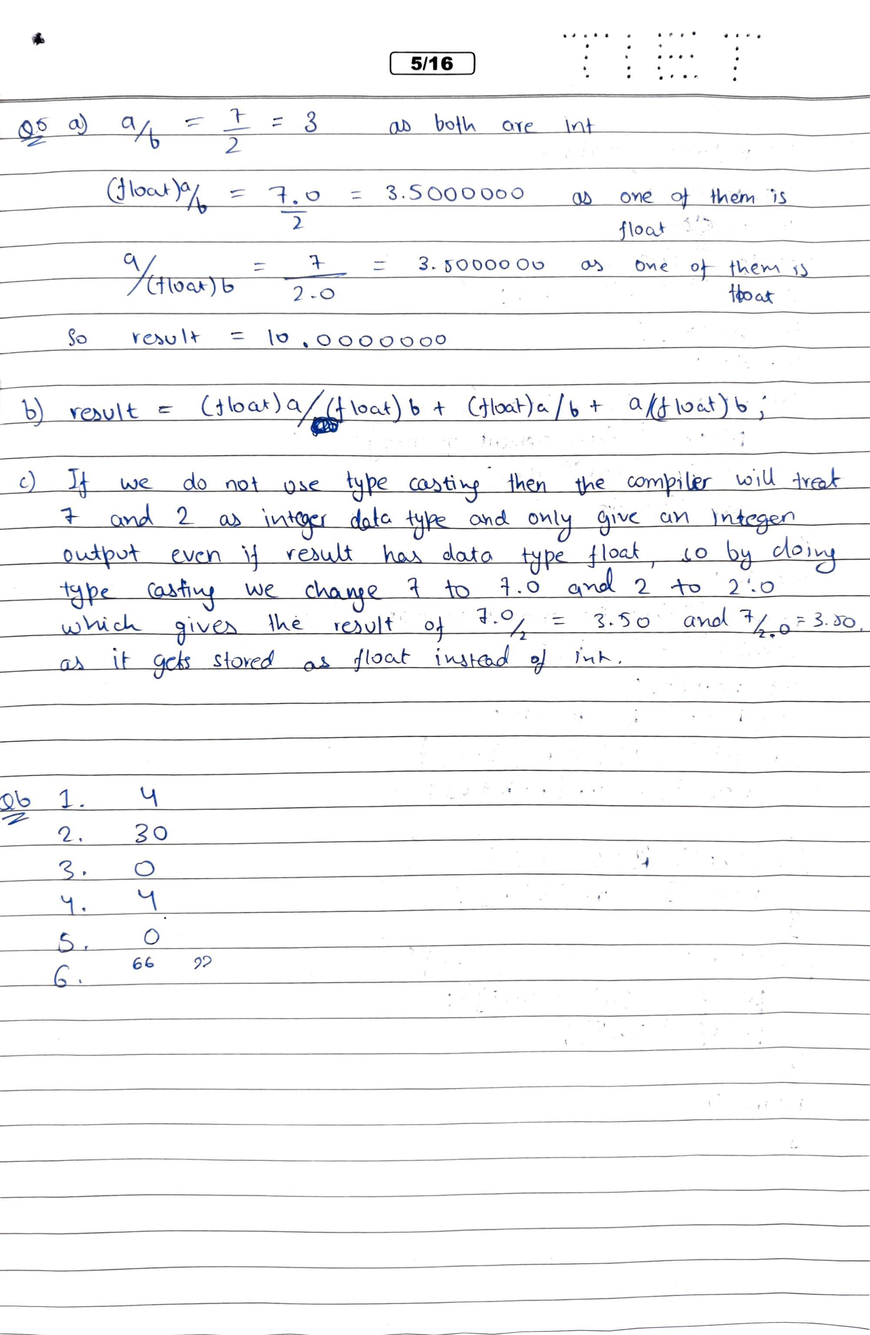cuttings: (306, 414, 341, 439)
